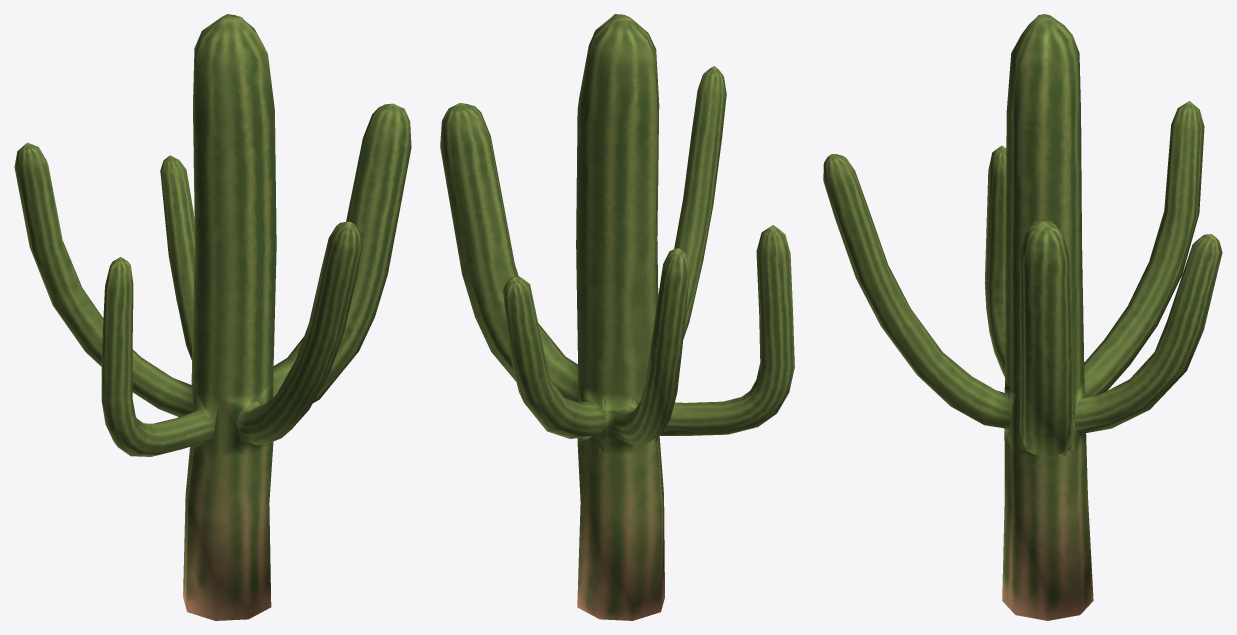
File: obstacle2.glb
3 views of the same model, side by side, from view 1: azimuth 30°, elevation 25°; view 2: azimuth 150°, elevation 25°; view 3: azimuth 270°, elevation 25° (orthographic).
Parts seen in each view (by area): view 1: cactus_6_cacturs_6_0; view 2: cactus_6_cacturs_6_0; view 3: cactus_6_cacturs_6_0.
Part boxes in pixels (x1,y1,x2,y2): cactus_6_cacturs_6_0: (14,14,411,620); cactus_6_cacturs_6_0: (440,14,794,620); cactus_6_cacturs_6_0: (823,14,1222,620).
Size of the model in its own units: 1.9 by 3.25 by 2.01.
1 material, 1 textured.
